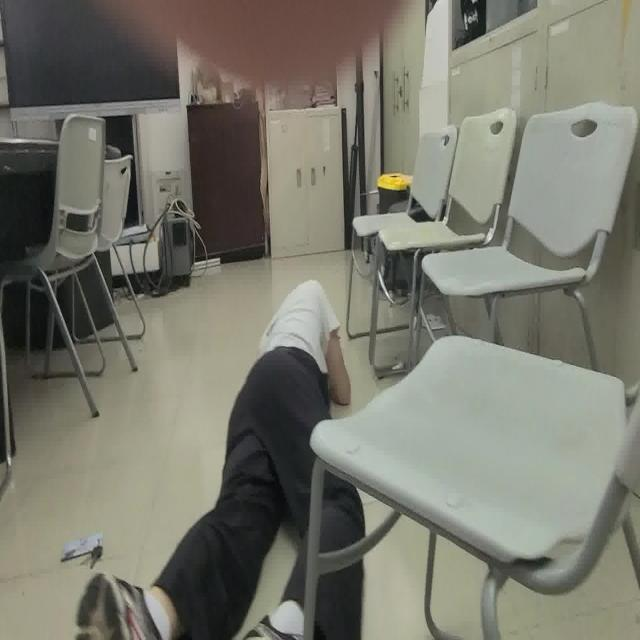fall: (75, 278, 364, 640)
